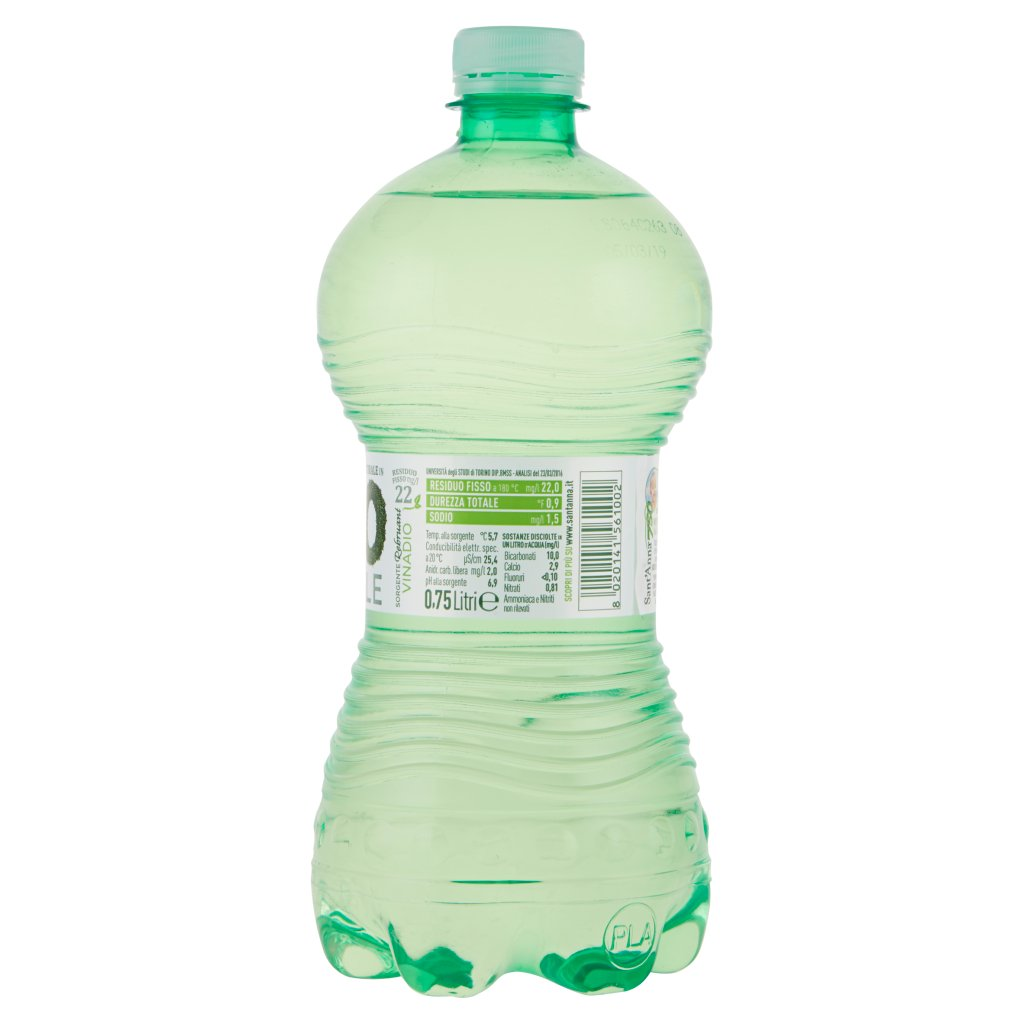PlasticBottle: (302, 17, 738, 1002)
